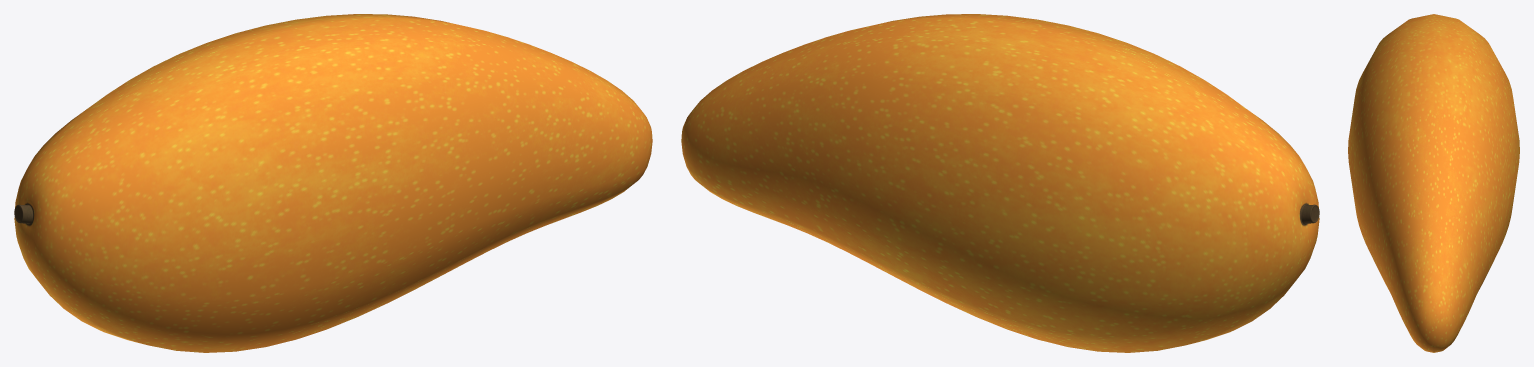
3 renders of one model, left to right at view 1: azimuth 30°, elevation 25°; view 2: azimuth 150°, elevation 25°; view 3: azimuth 270°, elevation 25°, orthographic. The views are drawn at different scales.
Parts seen in each view (by area): view 1: mango; view 2: mango; view 3: mango.
Part boxes in pixels (box(x1,y1,x2,y2)): mango: box(14, 14, 652, 352); mango: box(681, 14, 1319, 352); mango: box(1348, 14, 1519, 352).
Size of the model in its own units: 0.1526 by 0.0693 by 0.048.
Materials: 2 (2 with a texture image).
